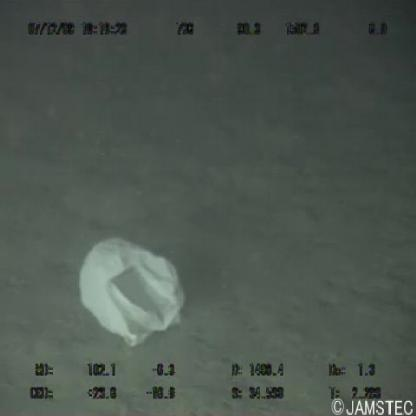Rác: (74, 230, 192, 354)
